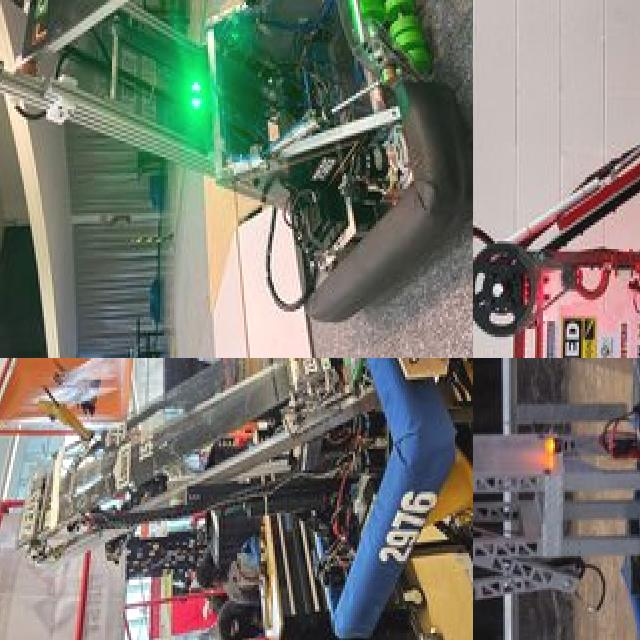FRC-Robots: (0, 0, 473, 336), (11, 358, 473, 640), (473, 0, 640, 358), (473, 358, 640, 640)
